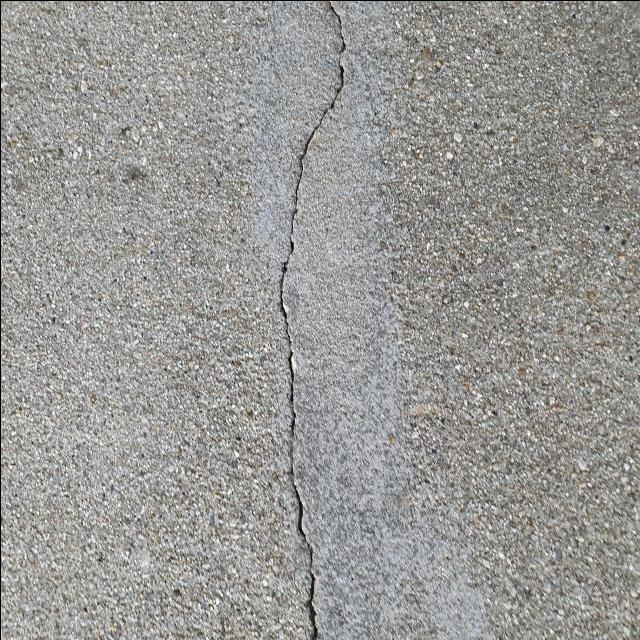SurfaceCrack: (236, 1, 379, 640)
